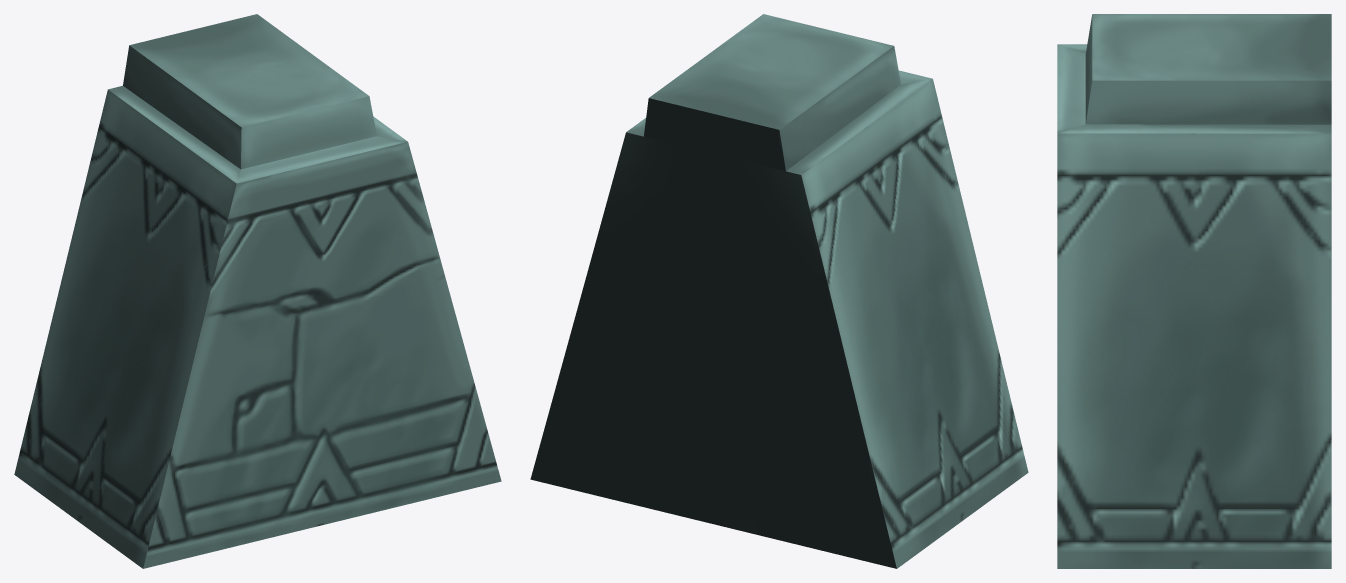
Rendered from Wall_block.fbx.
3 views of the same model, side by side, from view 1: azimuth 30°, elevation 25°; view 2: azimuth 150°, elevation 25°; view 3: azimuth 270°, elevation 25° (orthographic). The views are drawn at different scales.
Visible parts, largest first — view 1: polySurface8; view 2: polySurface8; view 3: polySurface8.
Boxes of the visible parts, box(x1,y1,x2,y2) form: polySurface8: box(14, 14, 501, 568); polySurface8: box(530, 14, 1028, 568); polySurface8: box(1057, 14, 1331, 568).
Bounding box in the file's own units: 1 × 1.07 × 0.6223.
